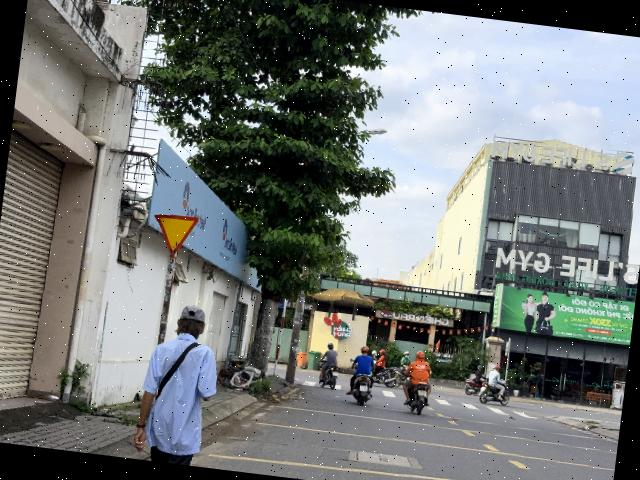giao-nhau-voi-duong-uu-tien: (150, 212, 198, 258)
